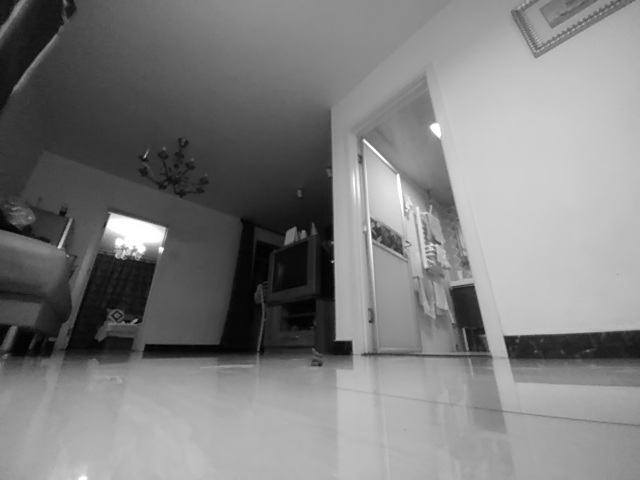curtain: (219, 218, 257, 355), (68, 251, 109, 351)
pet feces: (309, 346, 323, 366)
